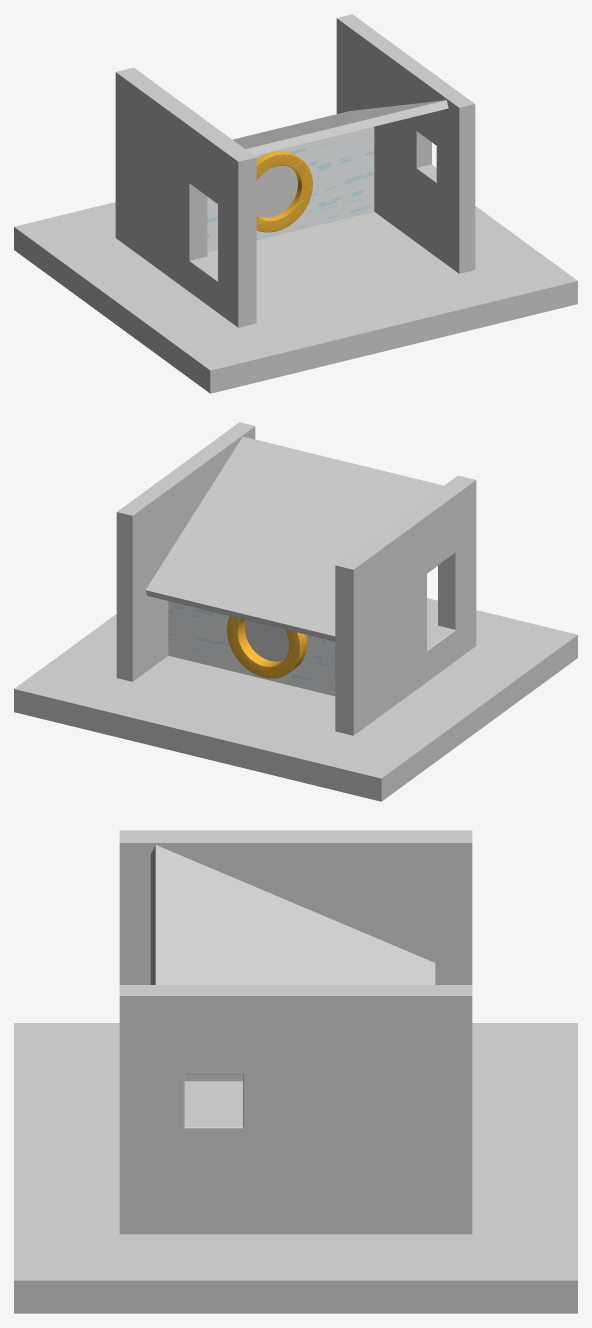
Rendered from Environment.fbx.
3 views of the same model, one above another, from view 1: azimuth 30°, elevation 25°; view 2: azimuth 150°, elevation 25°; view 3: azimuth 270°, elevation 25° (orthographic). The views are drawn at different scales.
Visible parts, largest first — view 1: Floor, WallLeft, WallRight, WindowWall, Ceiling, CircleFrame, Window; view 2: Floor, Ceiling, WallLeft, WallRight, WindowWall, CircleFrame, Window; view 3: Floor, WallRight, WallLeft, Ceiling.
Part boxes in pixels (box(x1,y1,x2,y2)): Floor: box(14, 202, 577, 393); WallLeft: box(115, 67, 256, 327); WallRight: box(336, 14, 475, 273); WindowWall: box(207, 126, 374, 252); Ceiling: box(233, 100, 448, 155); CircleFrame: box(256, 151, 312, 232); Window: box(256, 165, 297, 217); Floor: box(14, 598, 577, 801); Ceiling: box(145, 436, 443, 641); WallLeft: box(335, 475, 476, 735); WallRight: box(116, 422, 255, 681); WindowWall: box(168, 601, 335, 696); CircleFrame: box(227, 616, 306, 678); Window: box(245, 620, 289, 661); Floor: box(14, 1023, 577, 1313); WallRight: box(119, 985, 472, 1234); WallLeft: box(119, 830, 472, 1081); Ceiling: box(150, 845, 435, 984).
Bounding box in the file's own units: 41472 × 20400 × 38400.
Materials: 2 (2 with a texture image).
